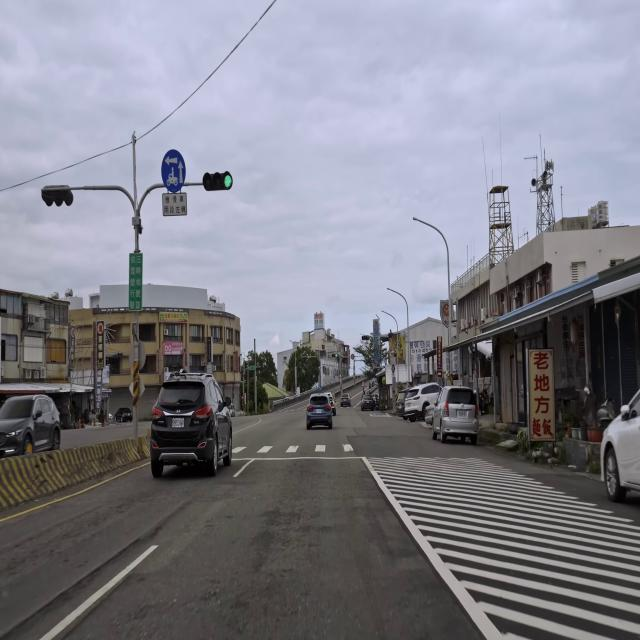green light: (202, 172, 234, 192)
